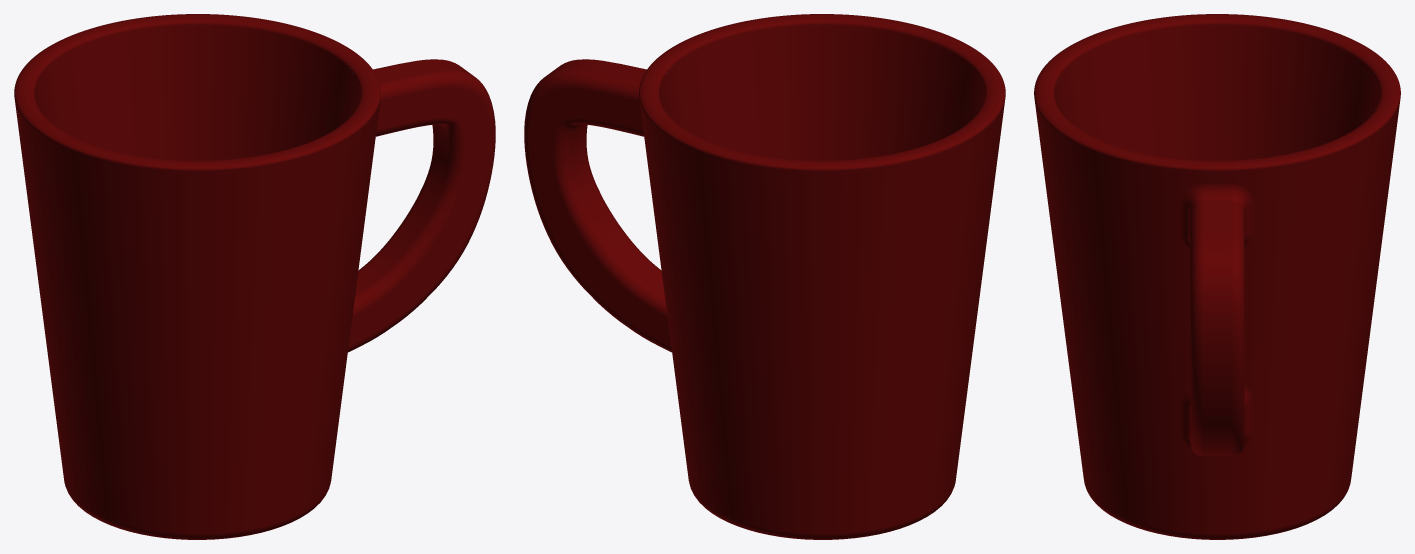
3 renders of one model, left to right at view 1: azimuth 30°, elevation 25°; view 2: azimuth 150°, elevation 25°; view 3: azimuth 270°, elevation 25°, orthographic.
Bounding box in the file's own units: 0.0762 × 0.0647 × 0.054.
